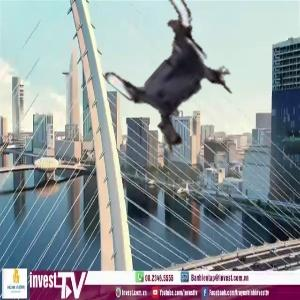drone: (102, 3, 245, 146)
